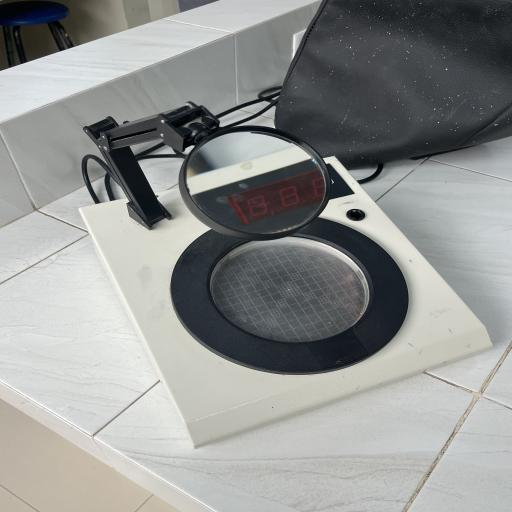Contador_Colonias_CC1: (61, 104, 498, 454)
